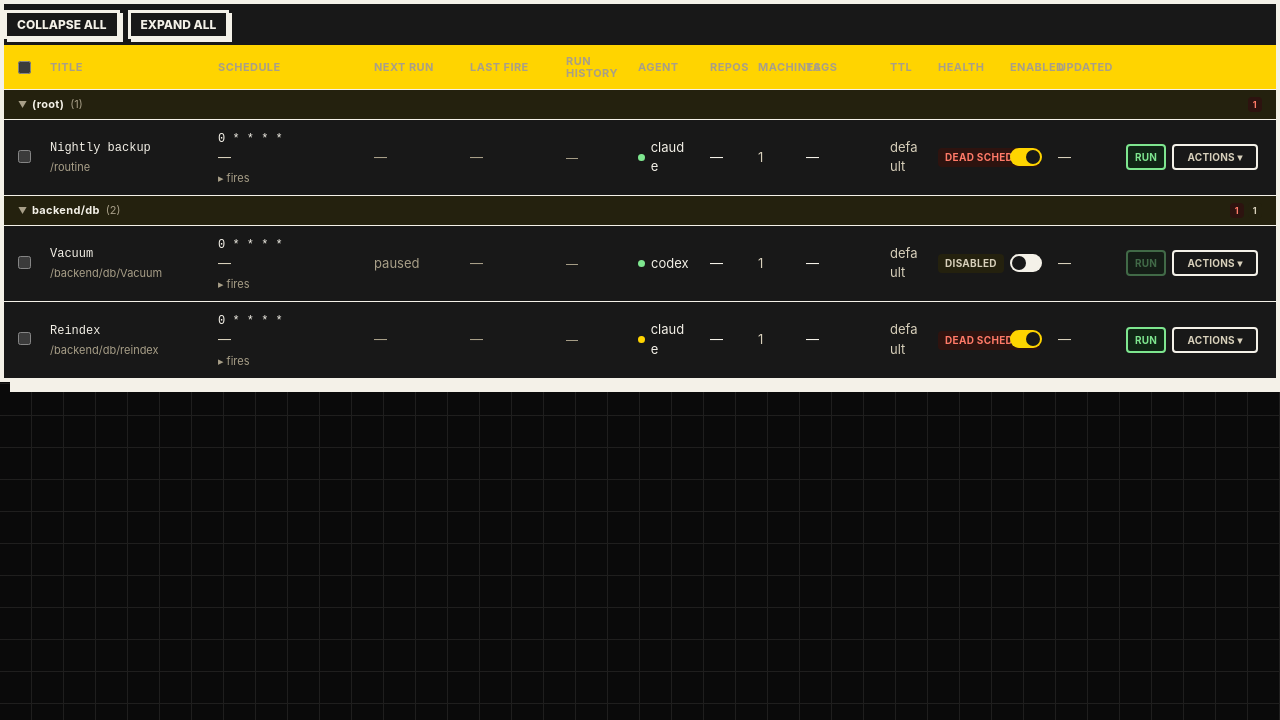
Scenario: RoutineTable — grouping › COLLAPSE ALL hides every group's rows, EXPAND ALL restores them
This screenshot has width=1280, height=720.
Click the button "COLLAPSE ALL" at (62, 24), box [4,10,120,39]
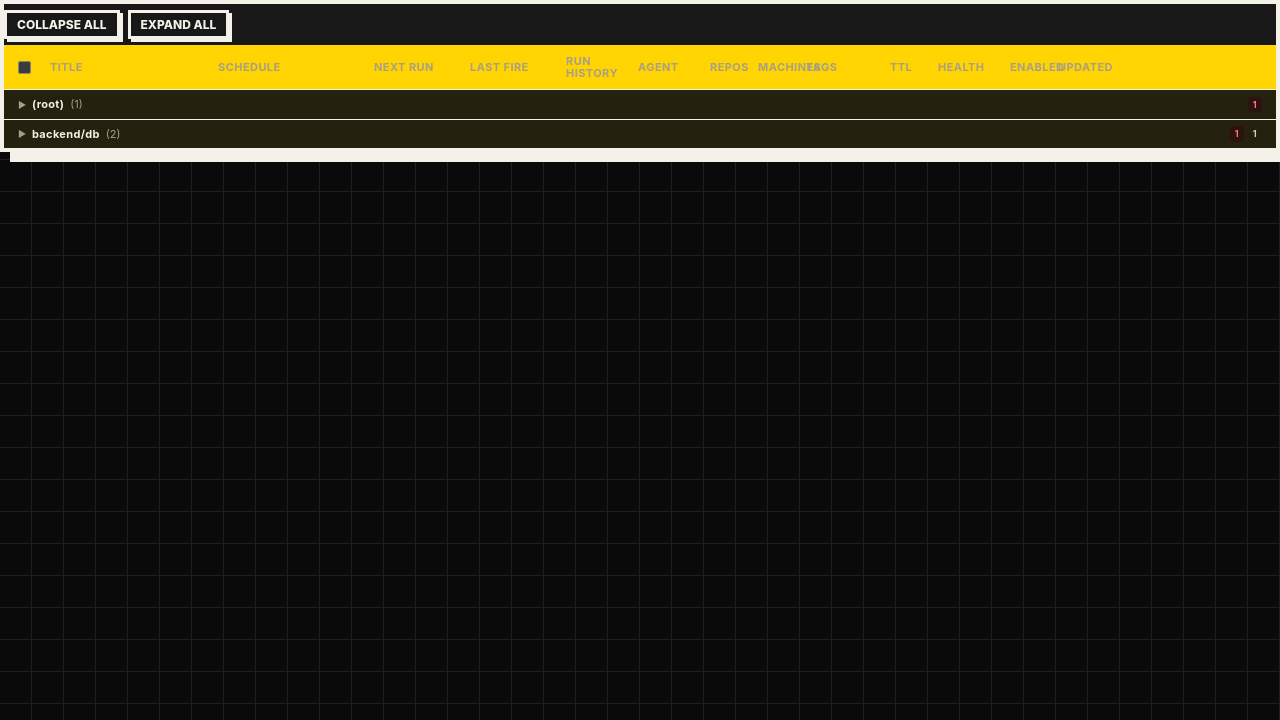
Result: the text "Nightly backup" is gone
Result: the text "Vacuum" is gone
Click the button "EXPAND ALL" at (178, 24), box [128,10,229,39]
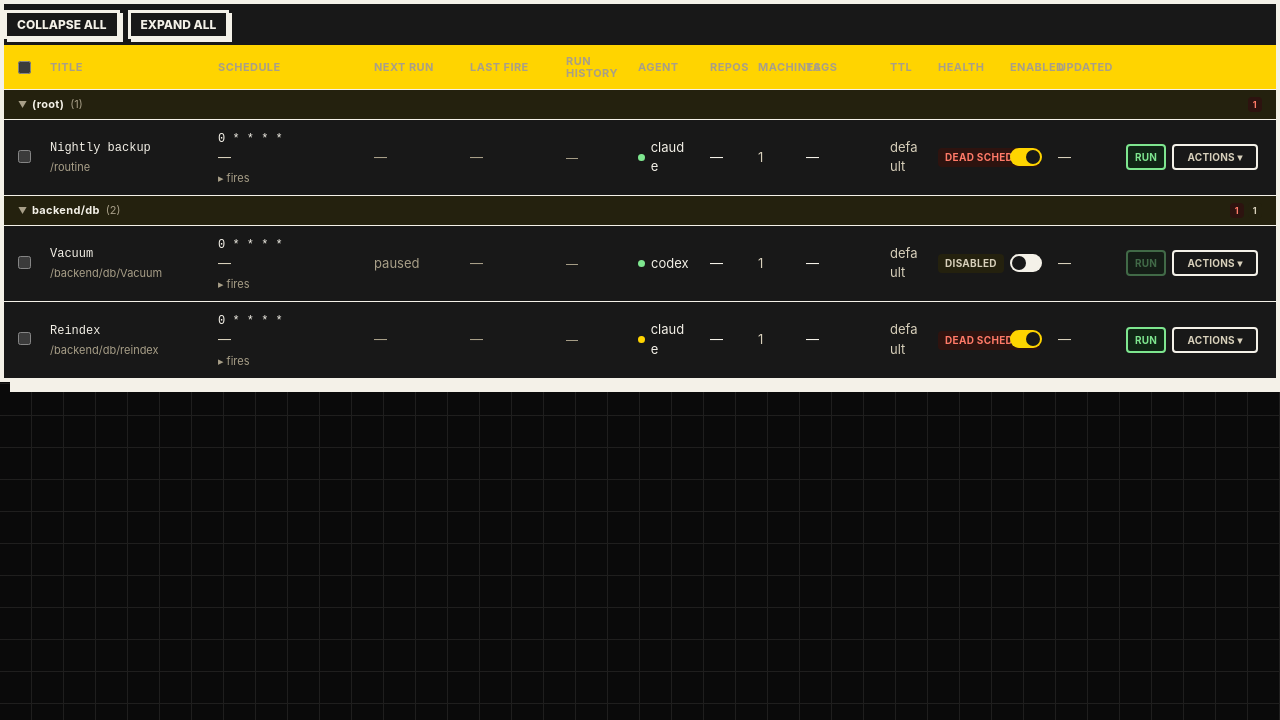
Result: the text "Nightly backup" is shown at [50,141,151,155]
Result: the text "Vacuum" is shown at [50,247,93,261]
